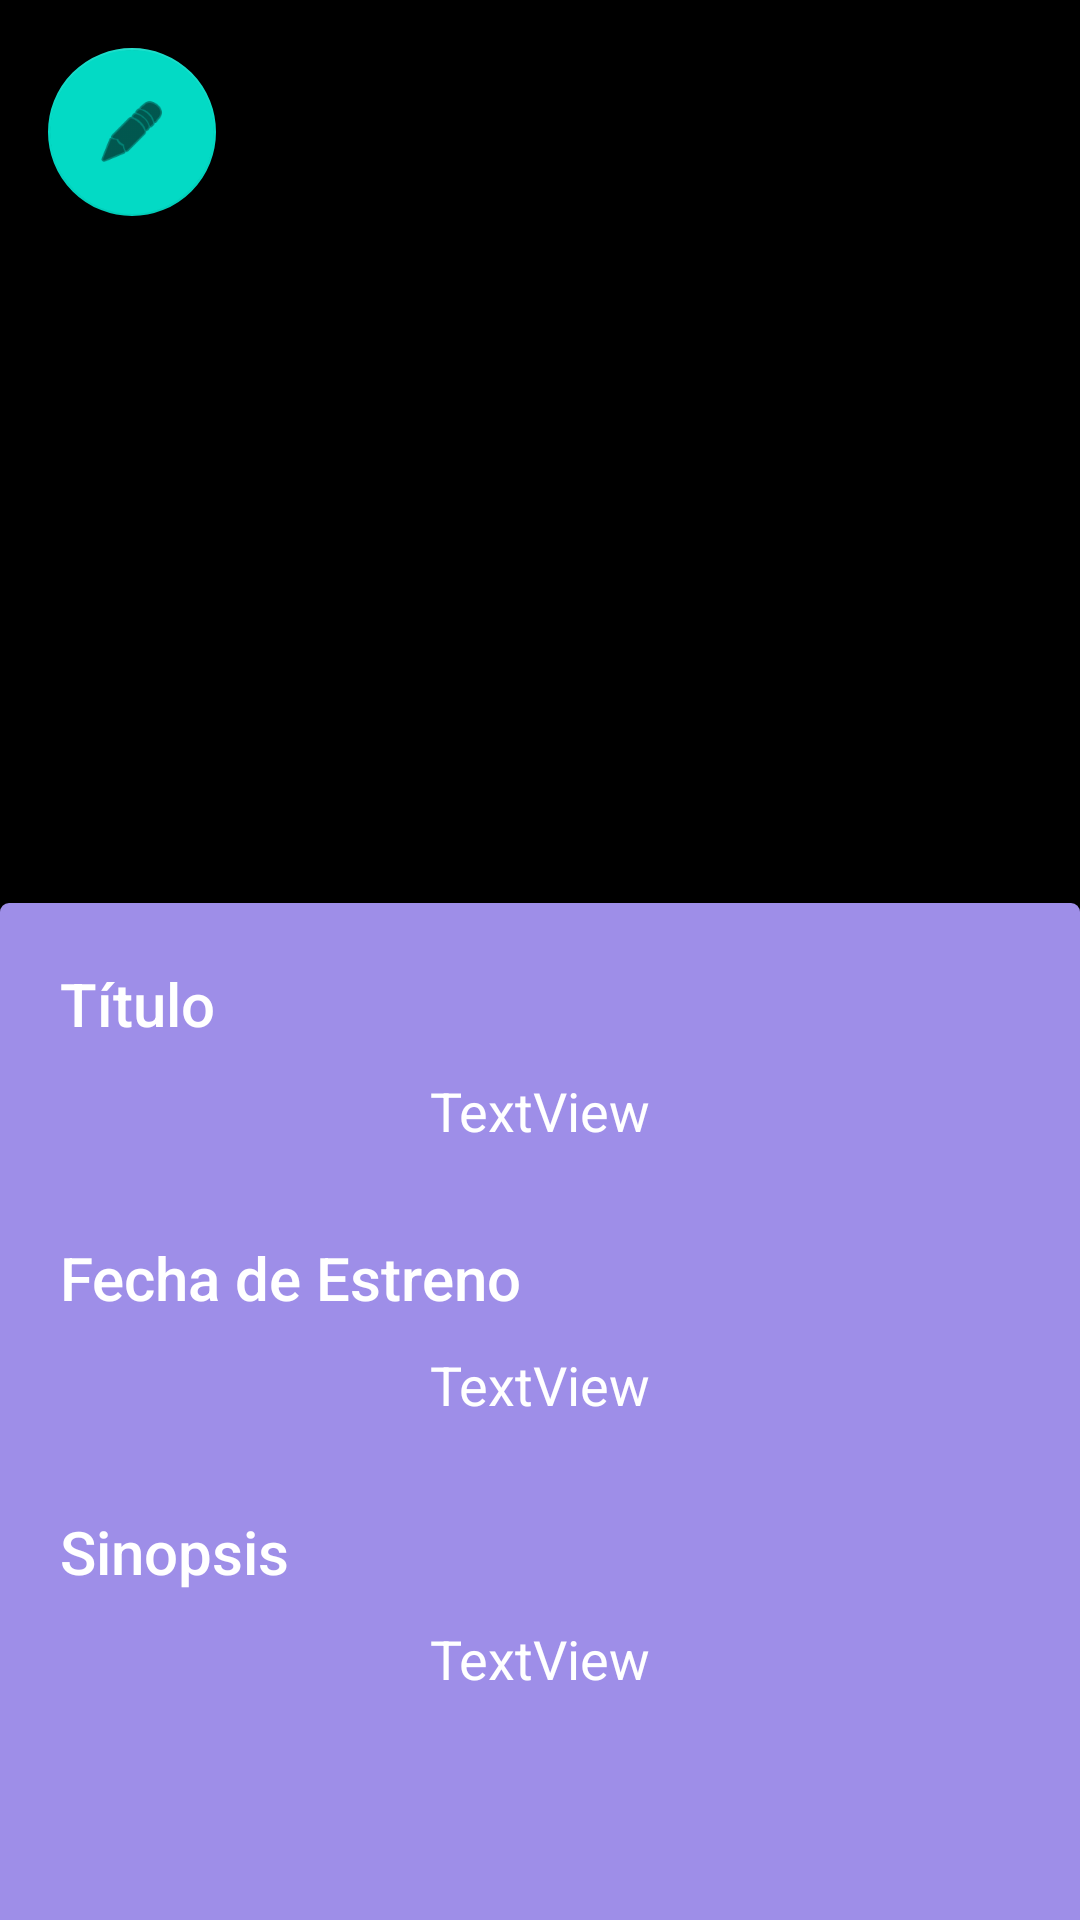

Where to tap for icons on this 1080 × 1920 app screen, as [x,y]:
edit: [132,132]
